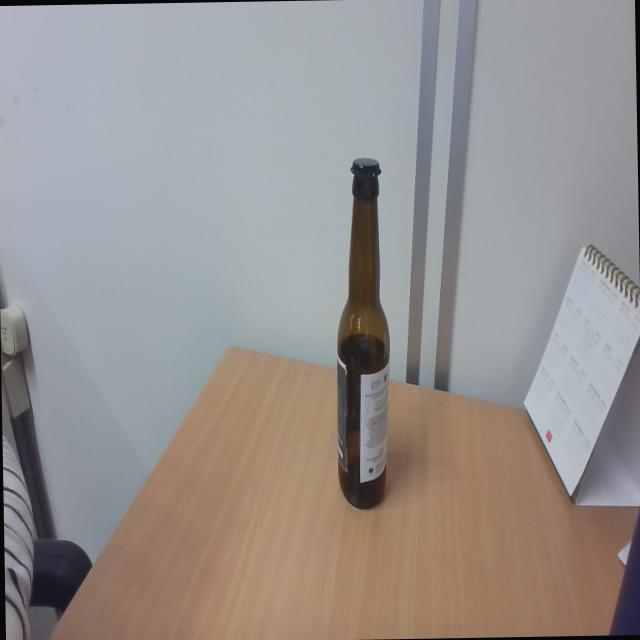Bottle: (330, 158, 394, 510)
Cap: (348, 156, 383, 181)
Label: (334, 362, 388, 481)
